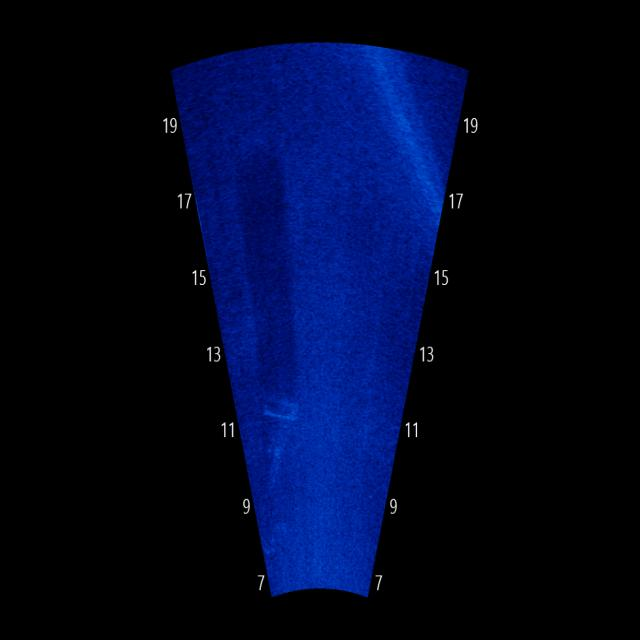triangle: (258, 392, 300, 491)
